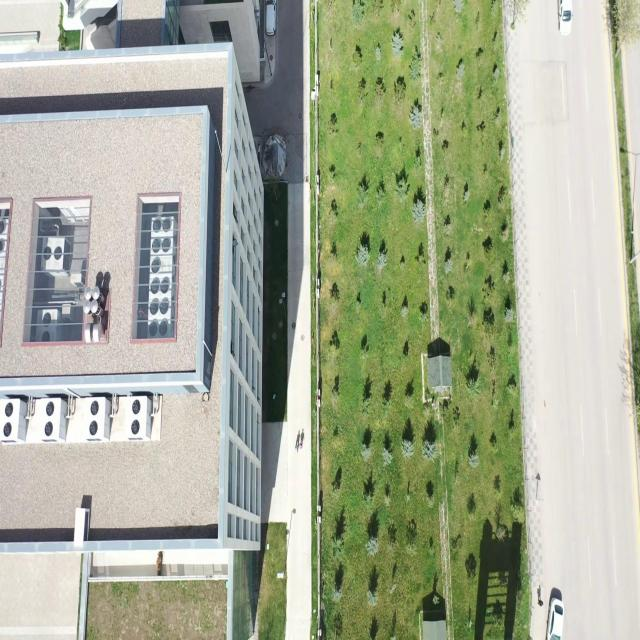p3rson: (537, 598, 544, 607), (295, 444, 298, 453), (298, 443, 302, 449)
